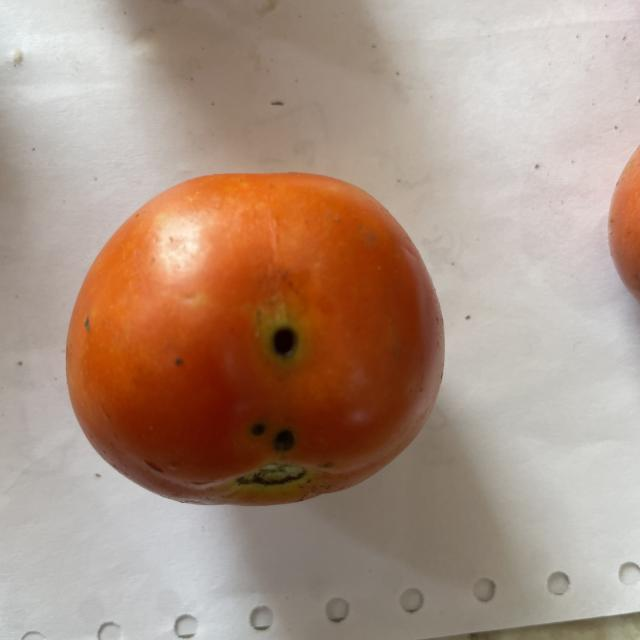fruitworm_bore: (236, 412, 304, 462), (266, 316, 305, 365)
